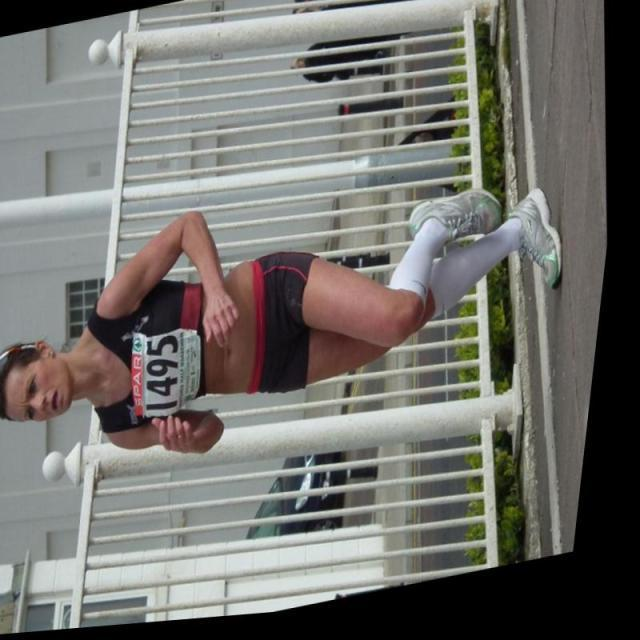dorsal: (124, 309, 230, 436)
